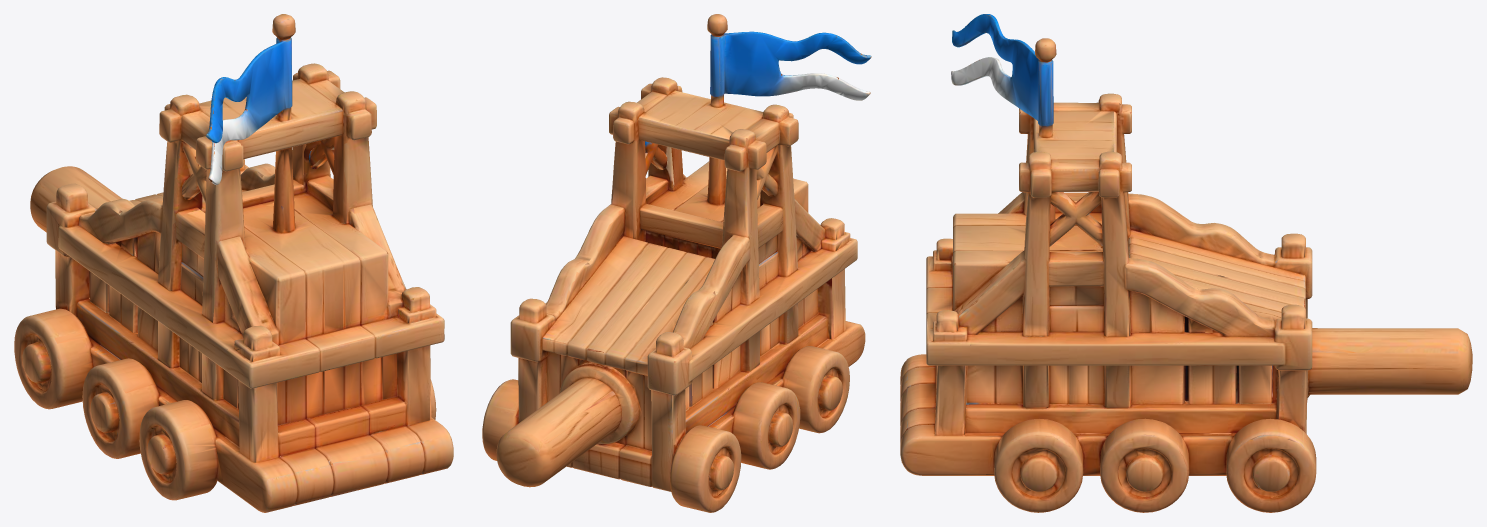
The model's file is ram.glb.
3 views of the same model, side by side, from view 1: azimuth 30°, elevation 25°; view 2: azimuth 150°, elevation 25°; view 3: azimuth 270°, elevation 25° (orthographic). The views are drawn at different scales.
Parts seen in each view (by area): view 1: ram; view 2: ram; view 3: ram.
Boxes of the visible parts, x1,y1,x2,y2 form: ram: [14, 14, 453, 512]; ram: [482, 14, 871, 512]; ram: [900, 14, 1472, 512].
Bounding box in the file's own units: 0.6141 × 1 × 1.24.
Materials: 1 (1 with a texture image).
